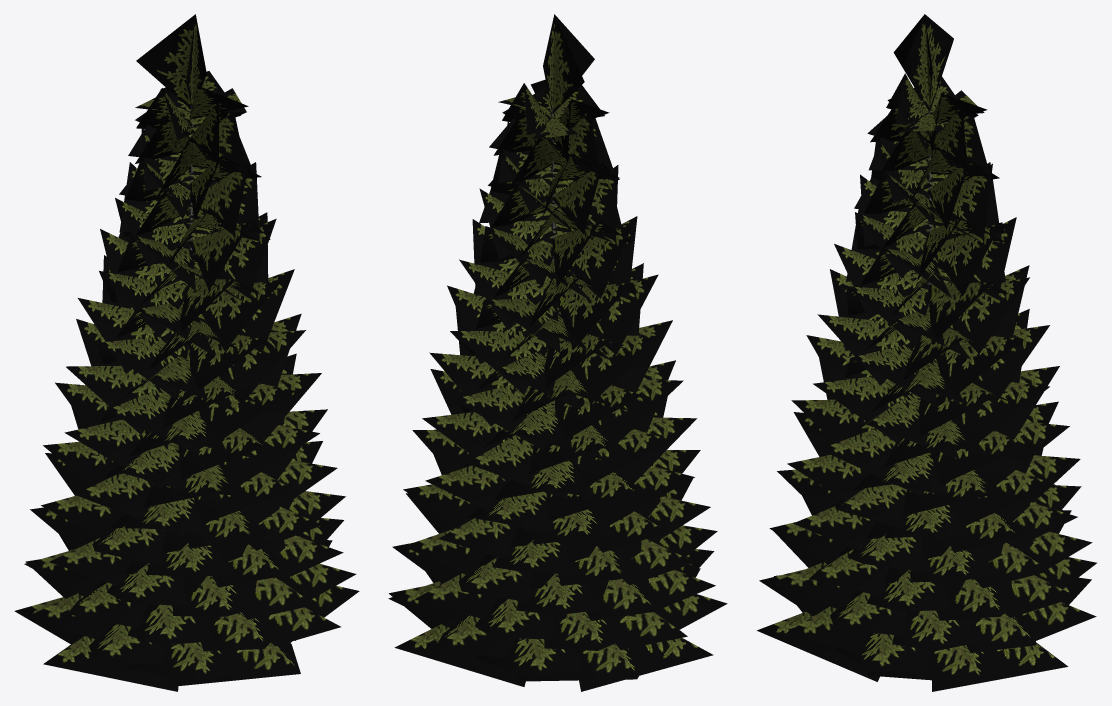
Rendered from tree.fbx.
3 renders of one model, left to right at view 1: azimuth 30°, elevation 25°; view 2: azimuth 150°, elevation 25°; view 3: azimuth 270°, elevation 25°, orthographic.
Visible parts, largest first — view 1: fir_4_LOD1_7.001; view 2: fir_4_LOD1_7.001; view 3: fir_4_LOD1_7.001.
Part boxes in pixels (x1,y1,x2,y2): fir_4_LOD1_7.001: [14, 14, 359, 691]; fir_4_LOD1_7.001: [388, 14, 727, 691]; fir_4_LOD1_7.001: [757, 14, 1096, 691].
Bounding box in the file's own units: 1465 × 2974 × 1442.
2 materials, 2 textured.
